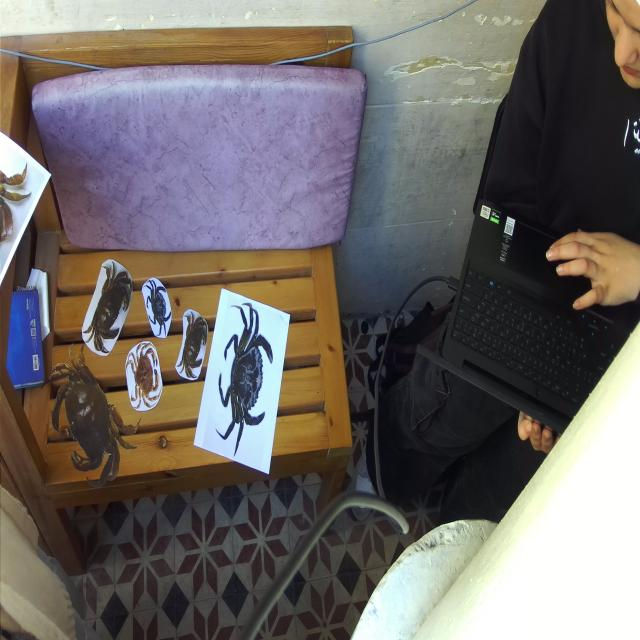European_Green_Crab: (208, 294, 280, 468), (141, 271, 175, 345)
